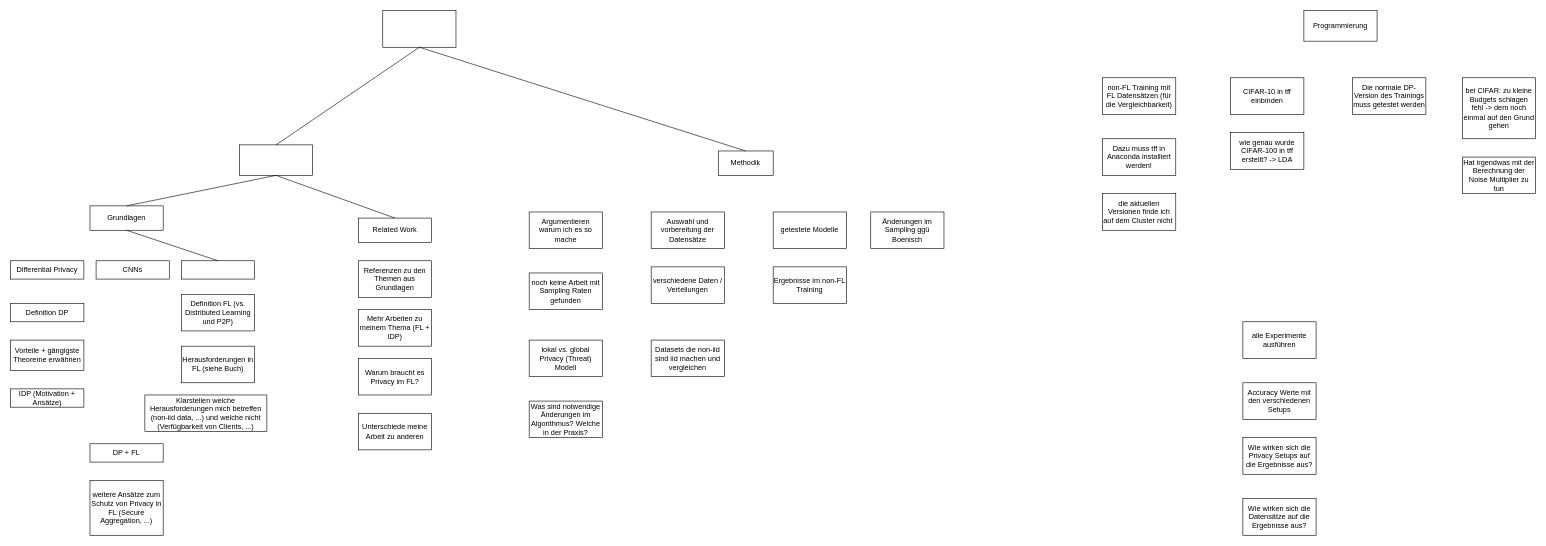
Some shapes in this 1546 by 546 pixel diagram are drawn without their labels. Each missing label, with the centre of its shape:
"Federated Learning" belongs at (x=218, y=269).
"Recherche" belongs at (x=276, y=159).
"schriftliche Arbeit" belongs at (x=419, y=28).
